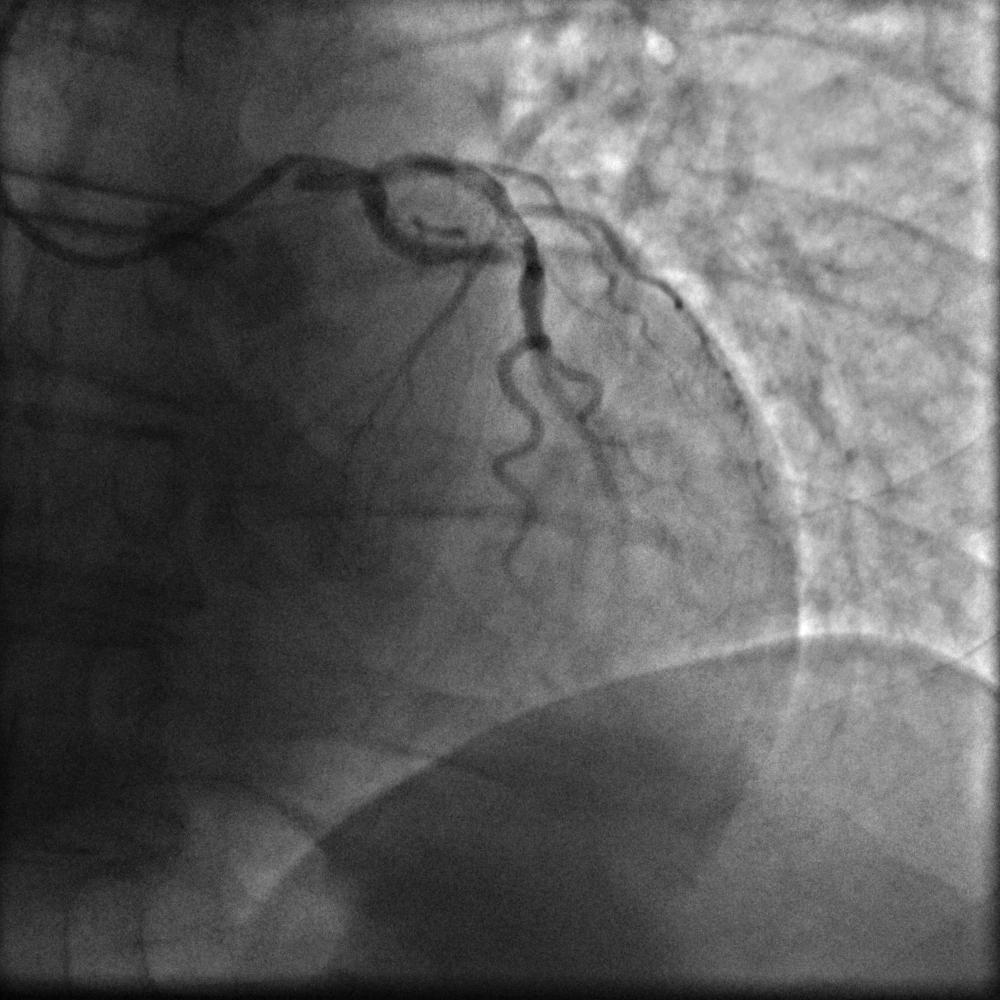Stenosis: (494, 237, 548, 277)
